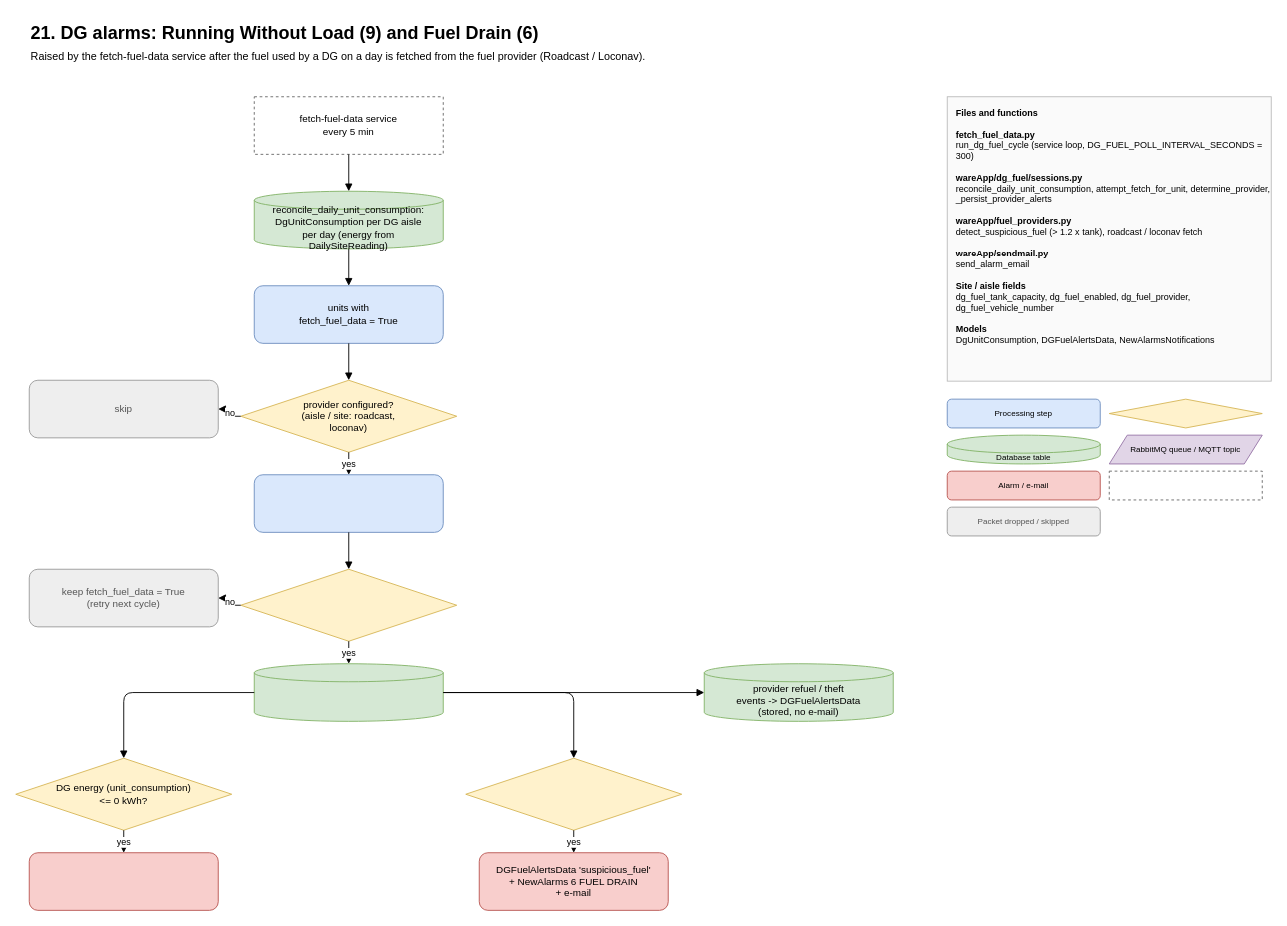
Some shapes in this 1287 by 926 pixel diagram are drawn without their labels. Each missing label, with the box of its shape:
Decision: (1108, 398, 1262, 428)
External: gateway, broker, timer: (1108, 470, 1262, 500)
fetch fuel used for the DG window (credentials from .env): (253, 474, 443, 532)
fuel used > 1.2 x site.dg_fuel_tank_capacity?: (465, 757, 682, 830)
NewAlarms 9 DG RUNNING WITHOUT LOAD + e-mail: (28, 852, 218, 910)
save dg_fuel_consumption, fetch_fuel_data = False: (253, 663, 443, 721)
usable fuel value?: (240, 568, 457, 641)
